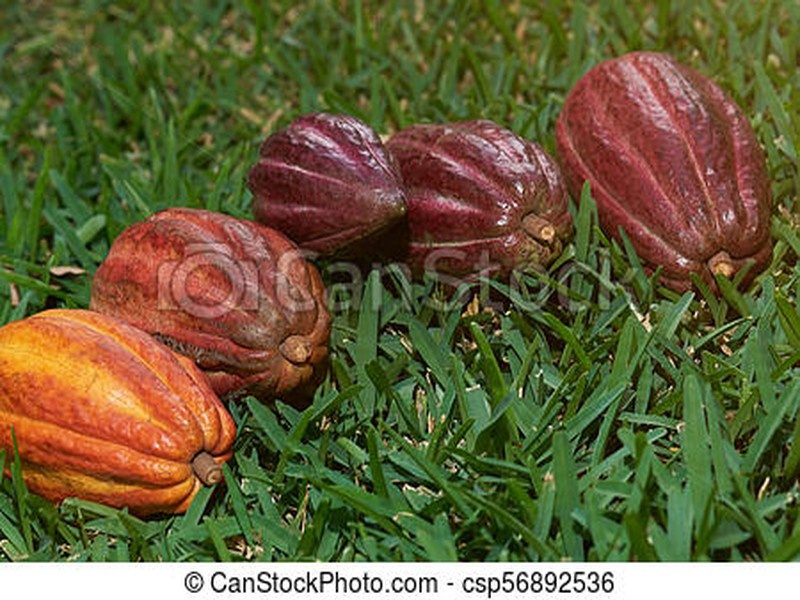Cacaopod: (554, 28, 787, 286), (5, 306, 237, 516), (84, 197, 328, 384), (386, 82, 575, 313), (242, 103, 411, 263)
